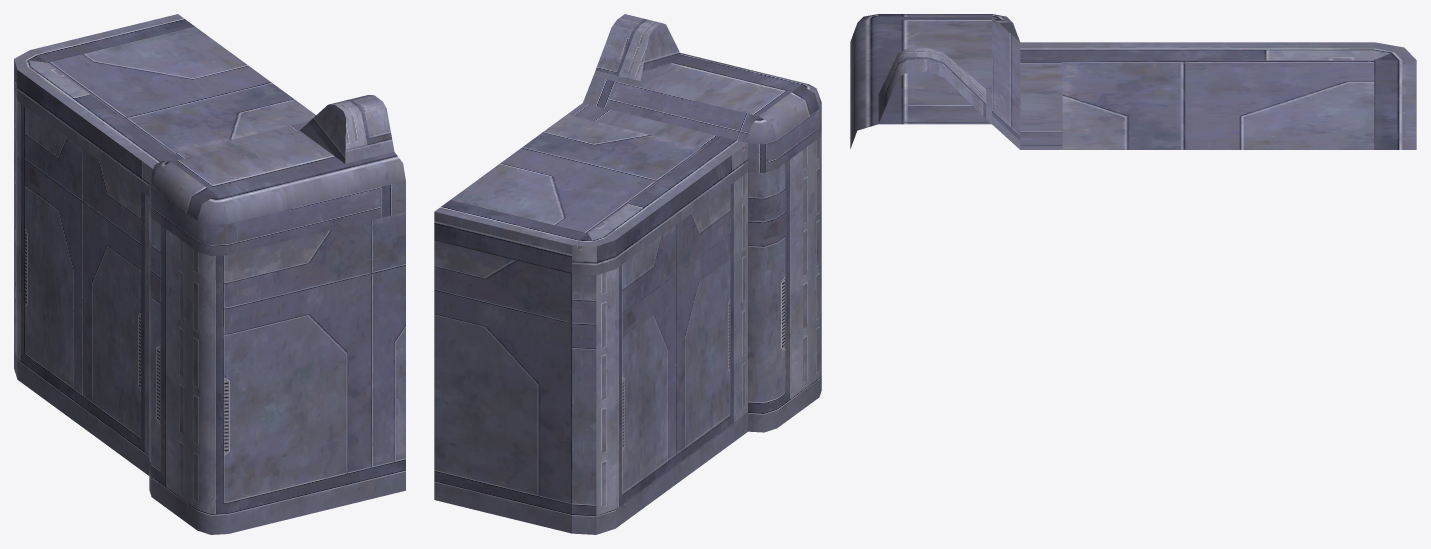
File: all_arch_imp_wallset_h3m_cap_left.glb
The picture shows the model from 3 angles, left to right: view 1: azimuth 30°, elevation 25°; view 2: azimuth 150°, elevation 25°; view 3: azimuth 270°, elevation 25°; orthographic projection. The views are drawn at different scales.
Parts seen in each view (by area): view 1: all_arch_imp_wallset_h3m_cap_left; view 2: all_arch_imp_wallset_h3m_cap_left; view 3: all_arch_imp_wallset_h3m_cap_left.
Boxes of the visible parts, <box> form: all_arch_imp_wallset_h3m_cap_left: <box>14,14,405,534</box>; all_arch_imp_wallset_h3m_cap_left: <box>434,14,821,534</box>; all_arch_imp_wallset_h3m_cap_left: <box>850,14,1416,149</box>.
Size of the model in its own units: 0.2 by 0.3605 by 0.4.
Materials: 1 (1 with a texture image).
